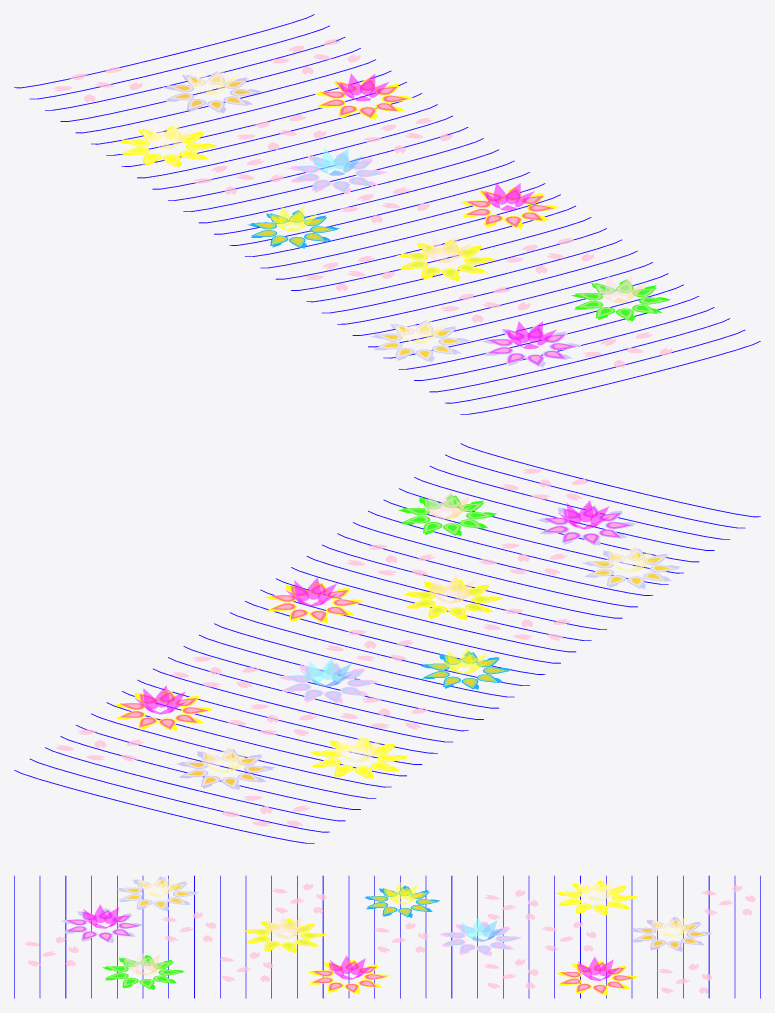
The model's file is decoracion_rio.glb.
The picture shows the model from 3 angles, top to bottom: view 1: azimuth 30°, elevation 25°; view 2: azimuth 150°, elevation 25°; view 3: azimuth 270°, elevation 25°; orthographic projection. The views are drawn at different scales.
Parts seen in each view (by area): view 1: Curva_Bezier, Círculo.038, Círculo.048, Círculo.018, Círculo.003, Círculo.030, Círculo.045, Círculo.025, Círculo.035, Círculo.015, Círculo.010, Círculo.031 (+17 smaller); view 2: Curva_Bezier, Círculo.018, Círculo.038, Círculo.048, Círculo.003, Círculo.035, Círculo.045, Círculo.015, Círculo.030, Círculo.025, Círculo.010, Círculo.002 (+17 smaller); view 3: Curva_Bezier, Círculo.038, Círculo.003, Círculo.018, Círculo.048, Círculo.015, Círculo.030, Círculo.035, Círculo.045, Círculo.025, Círculo.010, Círculo.016 (+35 smaller).
Part boxes in pixels (box(x1,y1,x2,y2)): Curva_Bezier: box(14, 14, 760, 414); Círculo.038: box(317, 79, 410, 118); Círculo.048: box(166, 72, 258, 112); Círculo.018: box(485, 326, 578, 366); Círculo.003: box(463, 188, 556, 228); Círculo.030: box(374, 321, 467, 361); Círculo.045: box(121, 127, 215, 166); Círculo.025: box(575, 280, 667, 320); Círculo.035: box(291, 153, 384, 193); Círculo.015: box(400, 240, 493, 280); Círculo.010: box(251, 211, 336, 248); Círculo.031: box(377, 323, 464, 359); Curva_Bezier: box(14, 443, 760, 843); Círculo.018: box(540, 505, 634, 545); Círculo.038: box(117, 690, 210, 730); Círculo.048: box(180, 749, 273, 789); Círculo.003: box(268, 582, 361, 622); Círculo.035: box(282, 663, 376, 703); Círculo.045: box(313, 738, 406, 778); Círculo.015: box(407, 579, 500, 619); Círculo.030: box(586, 548, 679, 588); Círculo.025: box(402, 495, 495, 535); Círculo.010: box(424, 652, 510, 689); Círculo.002: box(271, 584, 358, 621); Curva_Bezier: box(14, 875, 760, 998); Círculo.038: box(558, 961, 636, 994); Círculo.003: box(310, 960, 387, 993); Círculo.018: box(64, 909, 141, 942); Círculo.048: box(632, 917, 710, 950); Círculo.015: box(247, 919, 324, 952); Círculo.030: box(119, 877, 196, 910); Círculo.035: box(442, 922, 519, 955); Círculo.045: box(558, 881, 636, 914); Círculo.025: box(105, 955, 183, 989); Círculo.010: box(366, 886, 438, 917); Círculo.016: box(249, 920, 321, 950).
Size of the model in its own units: 60.75 by 3.9 by 156.
